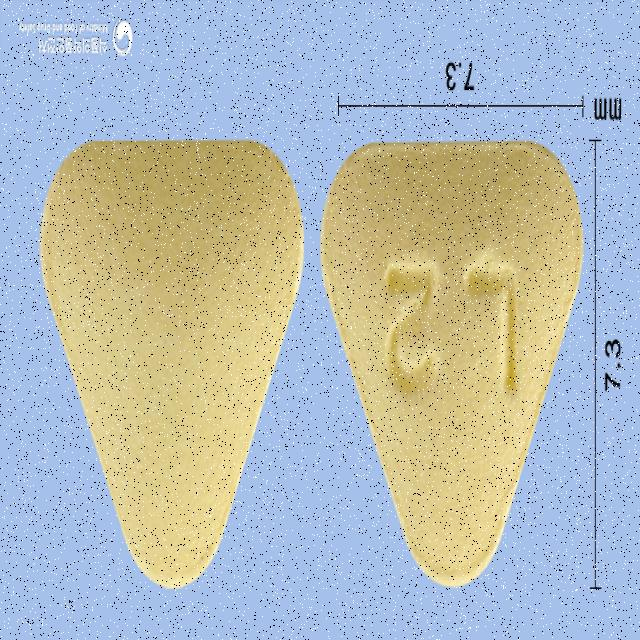Luarva: (38, 138, 304, 590), (320, 138, 586, 588)
